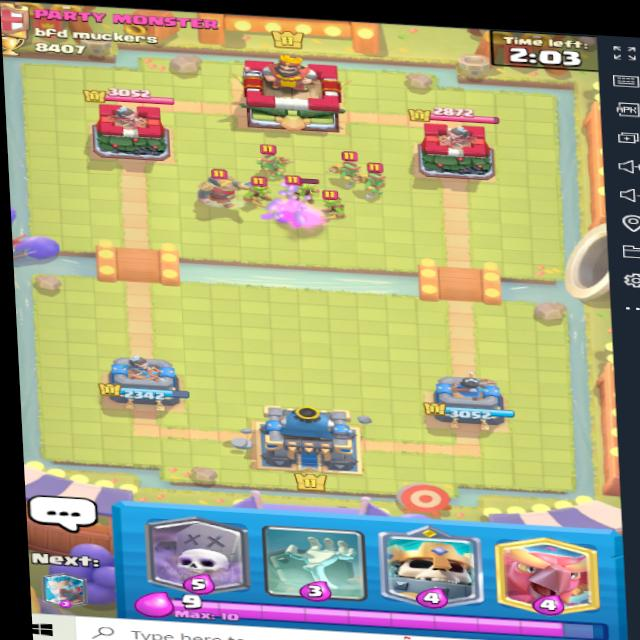goblin: (312, 190, 368, 221), (240, 174, 280, 206), (290, 170, 323, 207)
knight: (193, 154, 243, 214)
spear-goblin: (339, 148, 369, 182), (255, 144, 291, 172), (368, 163, 394, 194)
